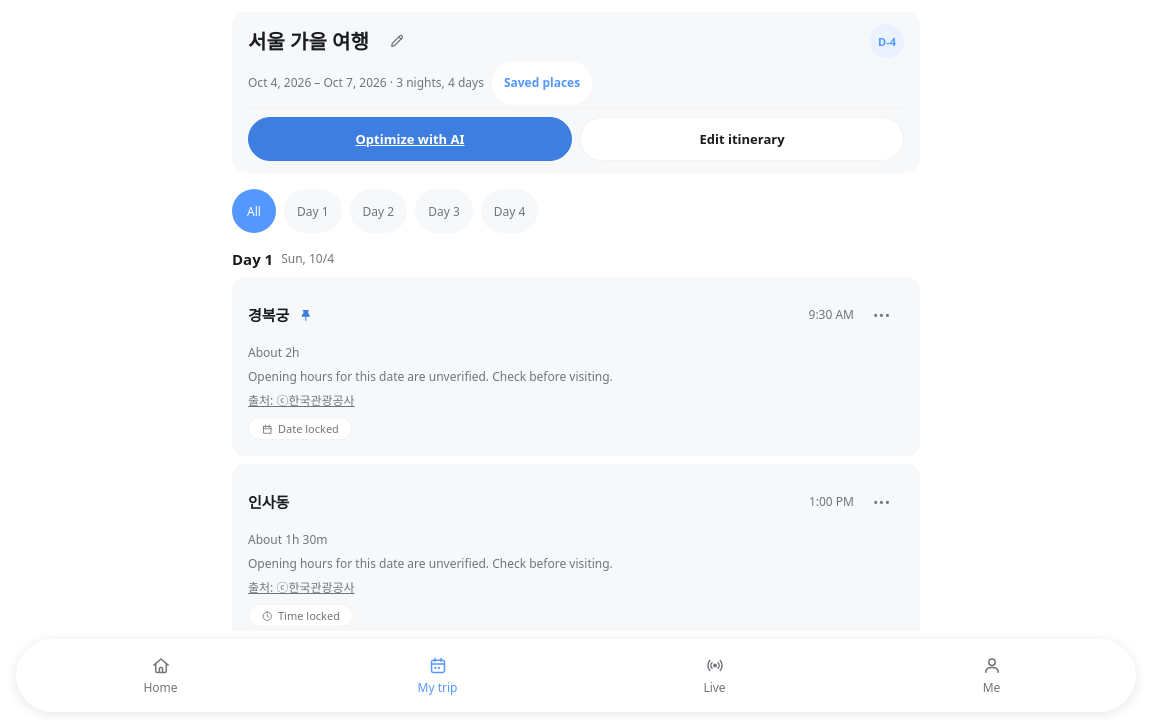
it: #105 FCR-029 the move sheet reads dated crowd only when opened › states NO_COVERAGE instead of making an unavailable series look empty
Expected: the heading "인사동" is shown, x1=248 y1=492 x2=289 y2=512
Click the button "Edit itinerary" at (742, 139), box x1=580 y1=117 x2=904 y2=161
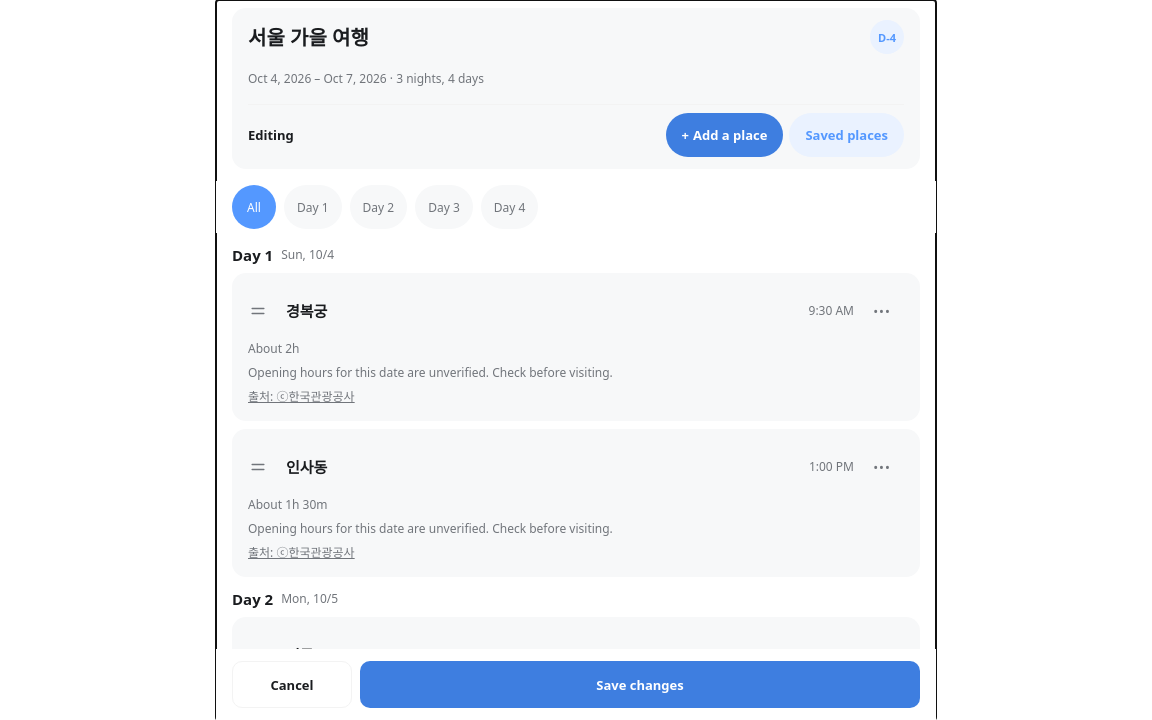
Click the button "•••" next to "1:00 PM" at (882, 467), box x1=860 y1=445 x2=904 y2=489
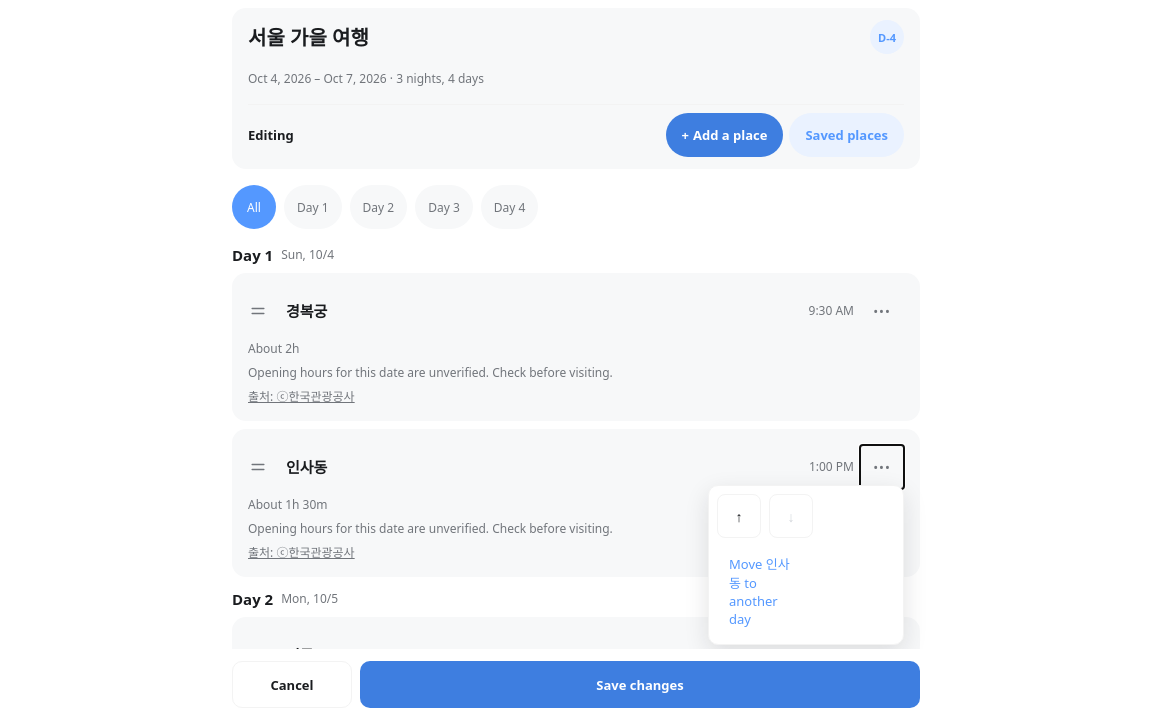
Click the button "Move 인사동 to another day" at (765, 591), box x1=717 y1=546 x2=813 y2=636
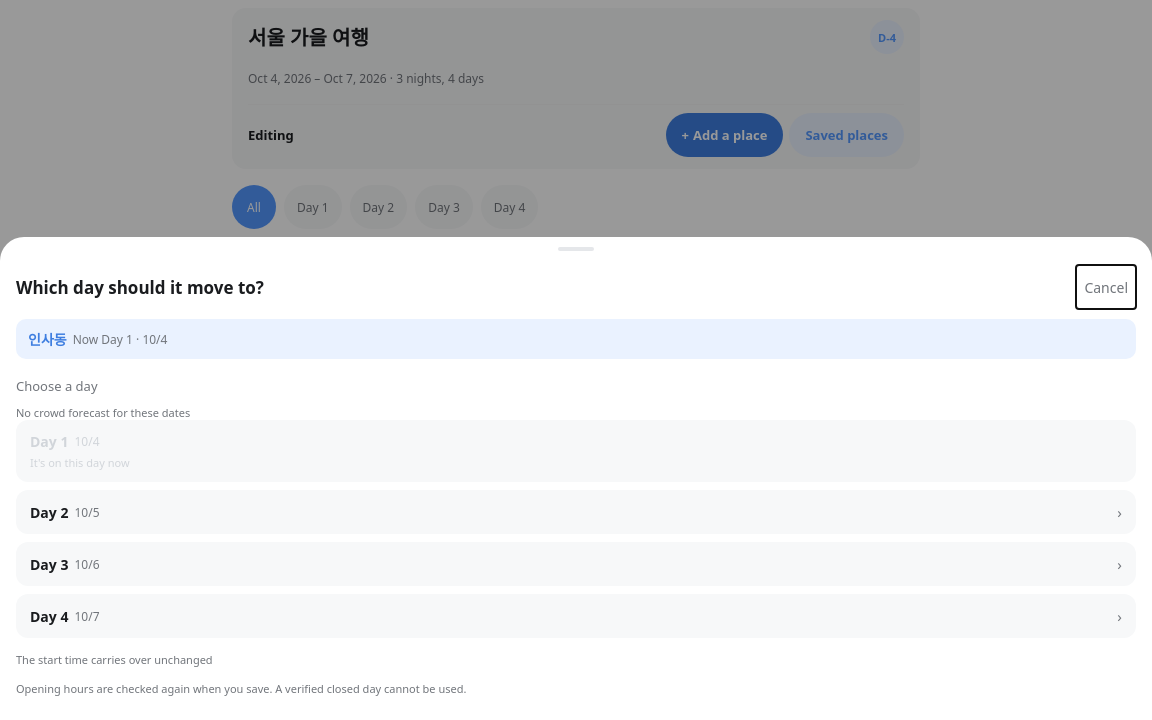
Result: the text "No crowd forecast for these dates" is shown at x1=16 y1=405 x2=190 y2=420
